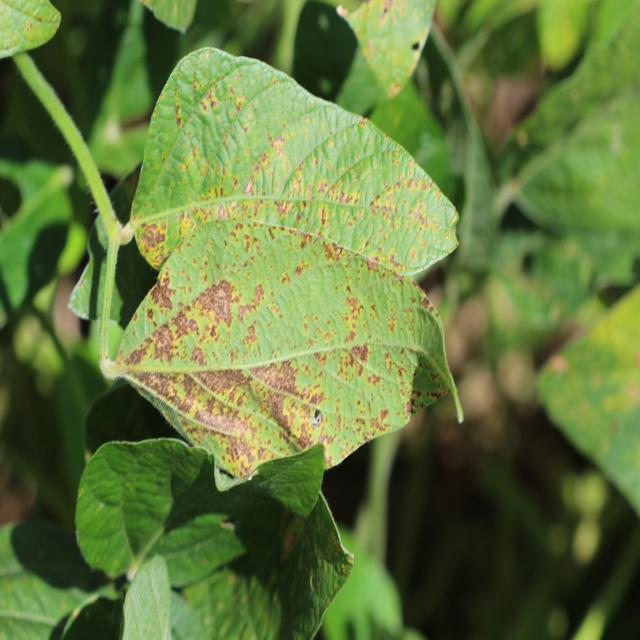Bacterial_Blight: (287, 321, 414, 452), (137, 358, 253, 440), (186, 267, 268, 360), (257, 268, 334, 345), (270, 379, 348, 451), (364, 184, 443, 249), (256, 197, 356, 245), (242, 132, 306, 196), (314, 278, 370, 346), (169, 127, 207, 187), (156, 281, 183, 364), (21, 14, 57, 46), (0, 3, 19, 44)
Soybean: (103, 220, 455, 478), (131, 49, 457, 274)
